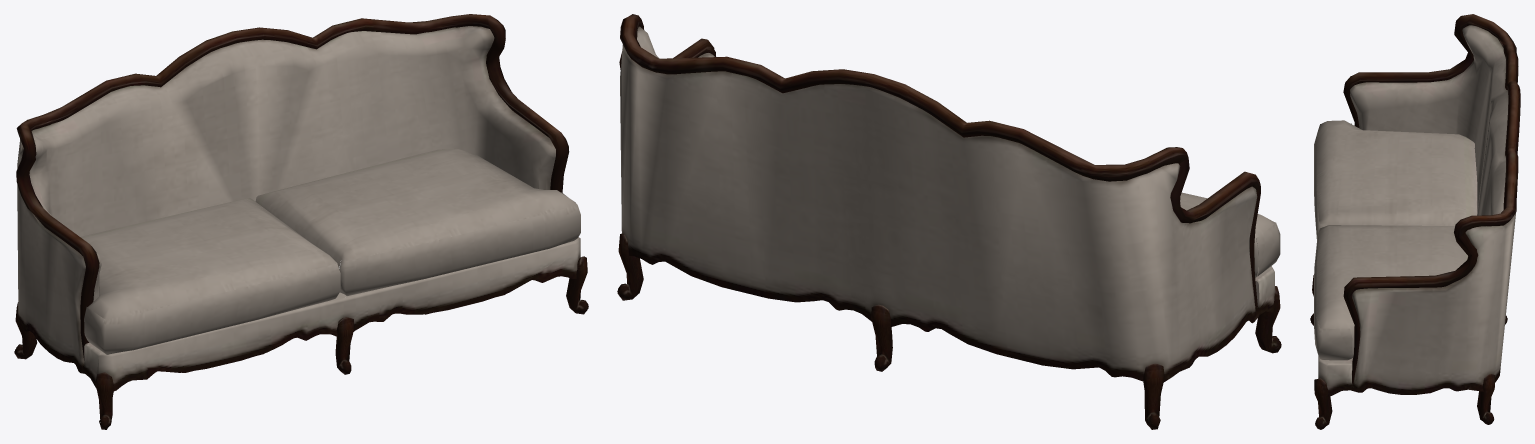
File: Sofa_01.glb
3 views of the same model, side by side, from view 1: azimuth 30°, elevation 25°; view 2: azimuth 150°, elevation 25°; view 3: azimuth 270°, elevation 25° (orthographic). The views are drawn at different scales.
Parts seen in each view (by area): view 1: Sofa_01; view 2: Sofa_01; view 3: Sofa_01.
Part boxes in pixels (x1,y1,x2,y2): Sofa_01: [14, 14, 588, 429]; Sofa_01: [617, 14, 1281, 429]; Sofa_01: [1310, 14, 1520, 429].
Bounding box in the file's own units: 1.57 × 0.7967 × 0.6597.
Materials: 1 (1 with a texture image).
